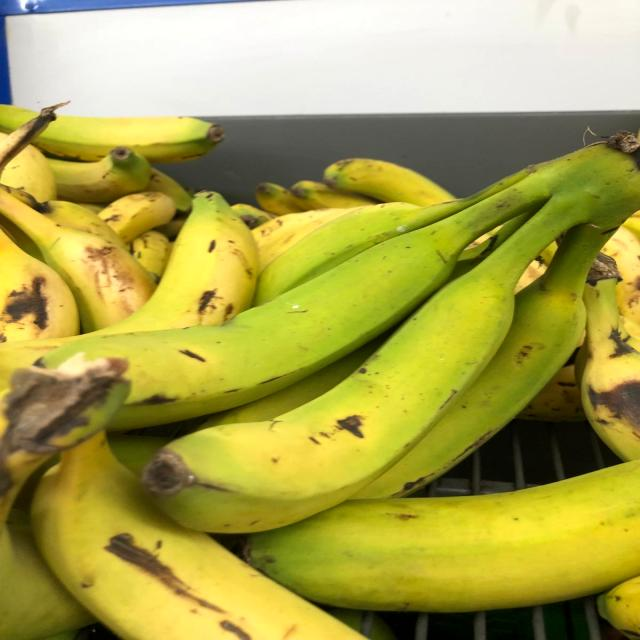banana: (33, 129, 638, 508)
